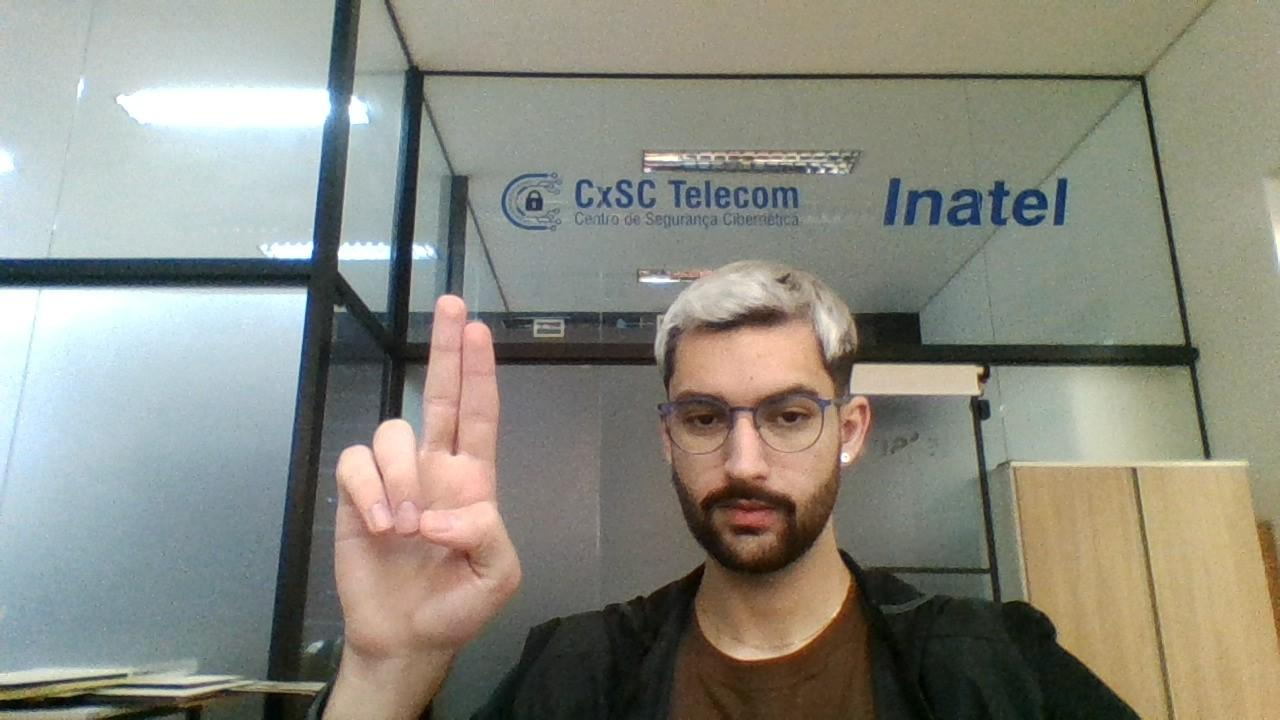U: (316, 286, 526, 648)
